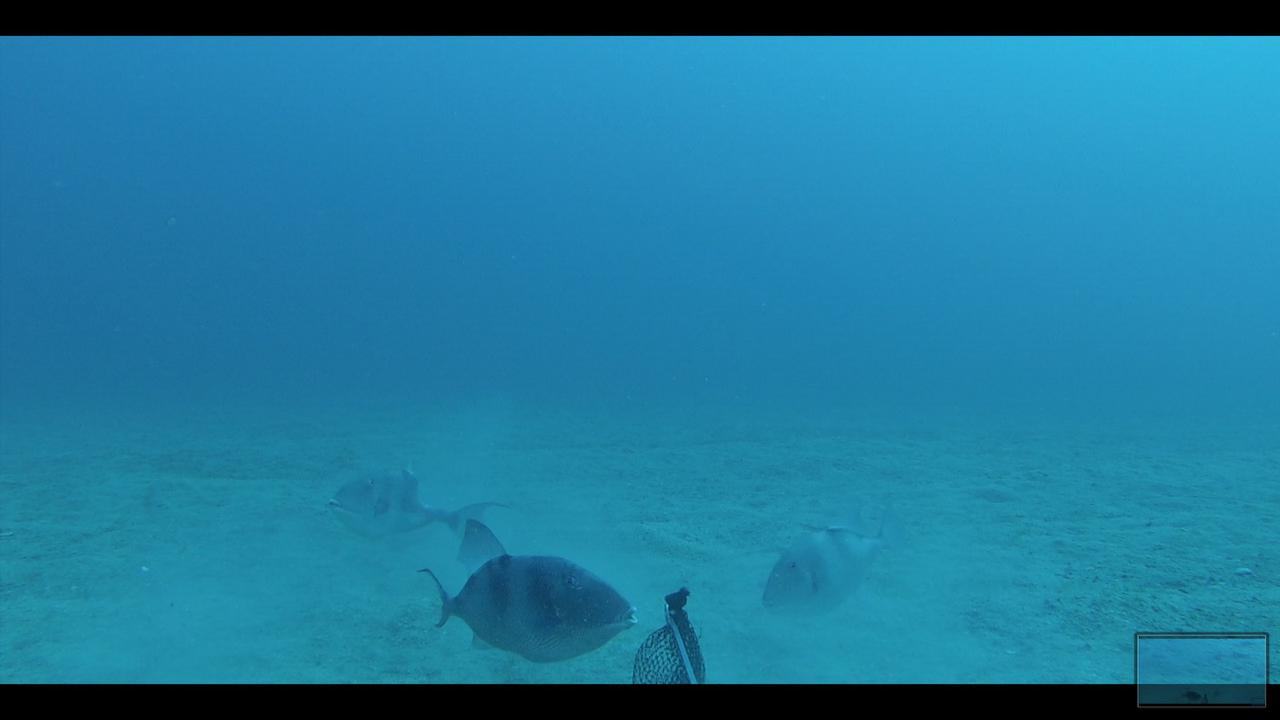balistes: (412, 518, 640, 665), (755, 492, 916, 622), (321, 454, 514, 556)
